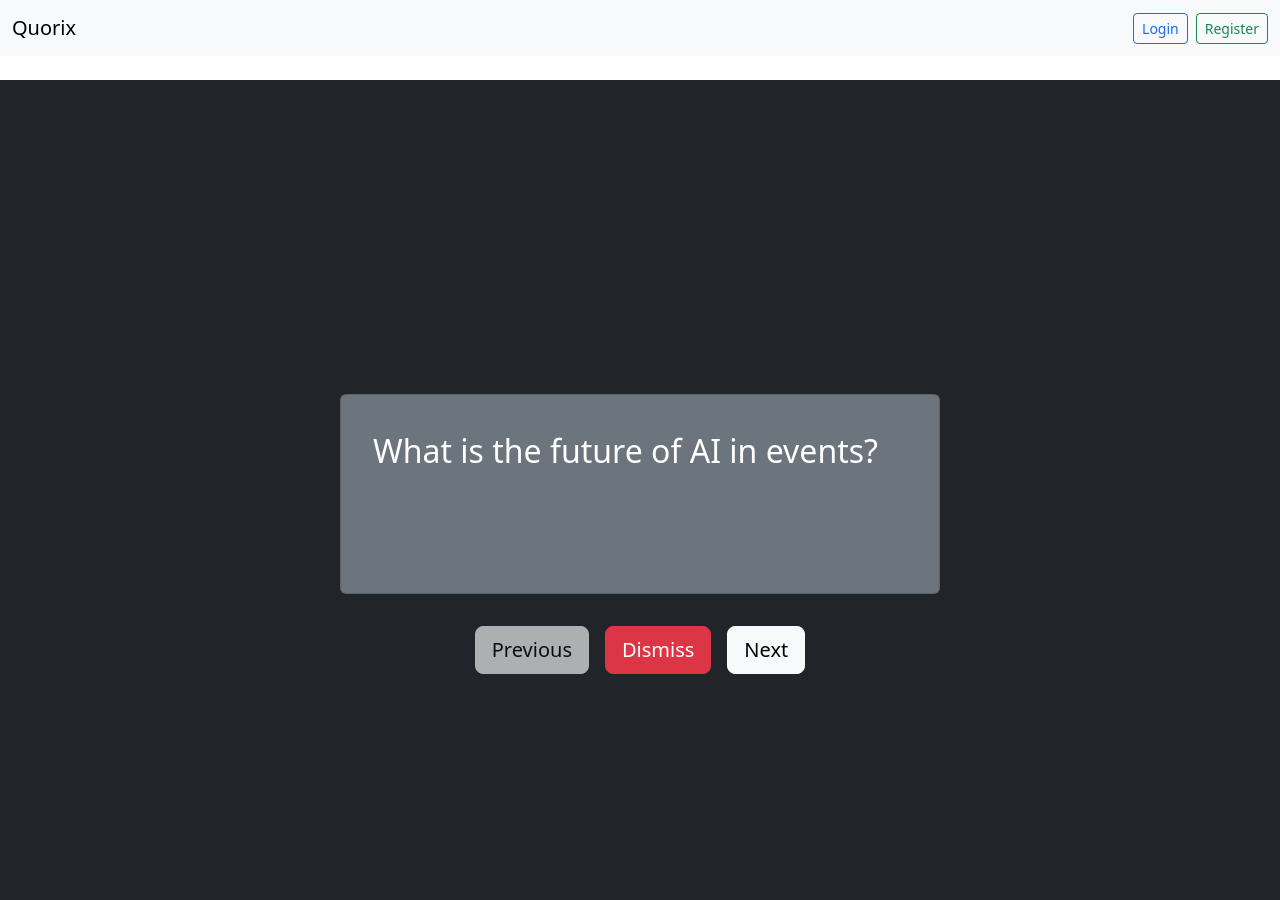
it: SpeakerView › disables Previous on first and Next on last question
Expected: the text "What is the future of AI in events?" is shown, [373,427,907,475]
Expected: the button "Previous" is disabled, [475,626,589,674]
Click the button "Next" at (766, 650), box [727,626,805,674]
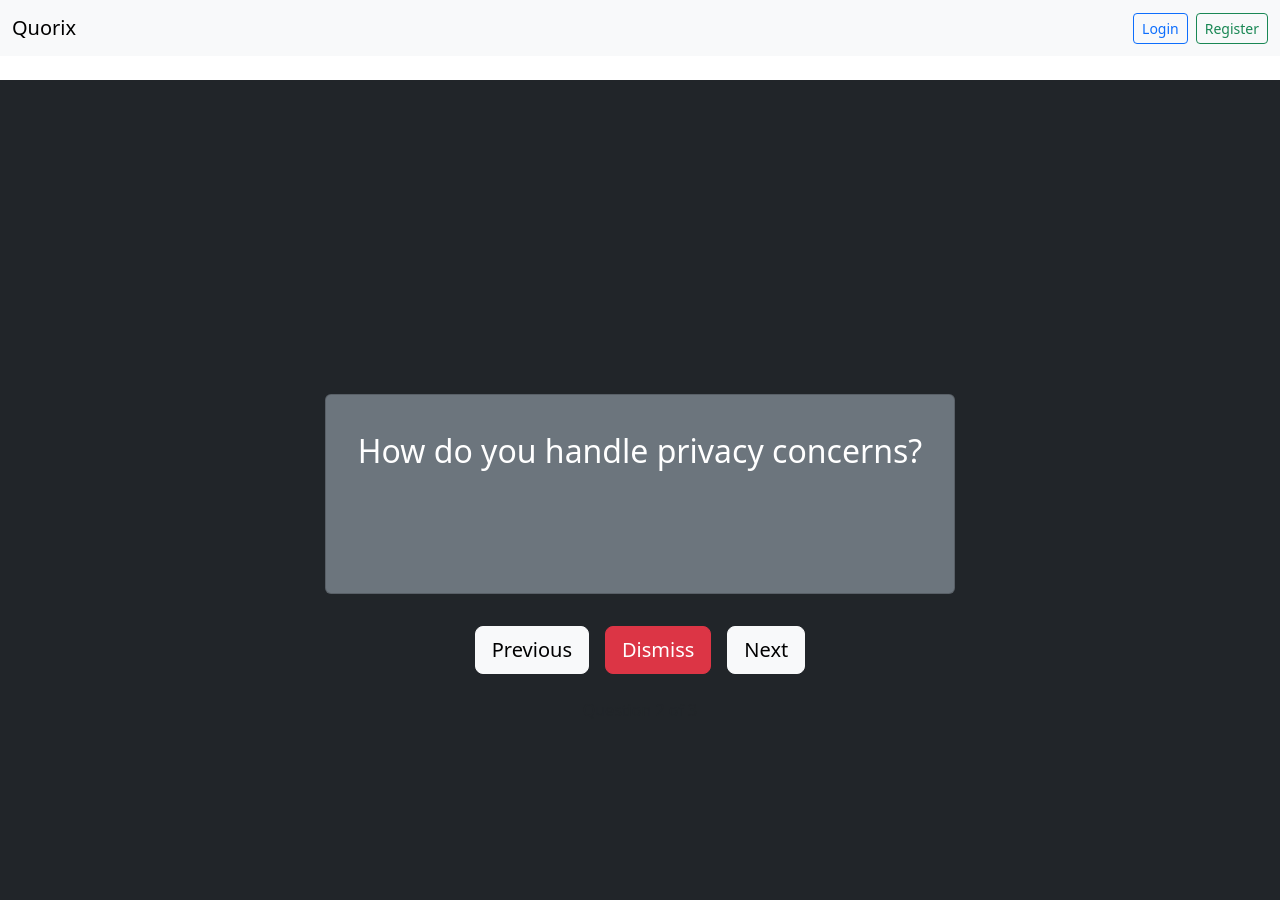
Click the button "Next" at (766, 650), box [727,626,805,674]
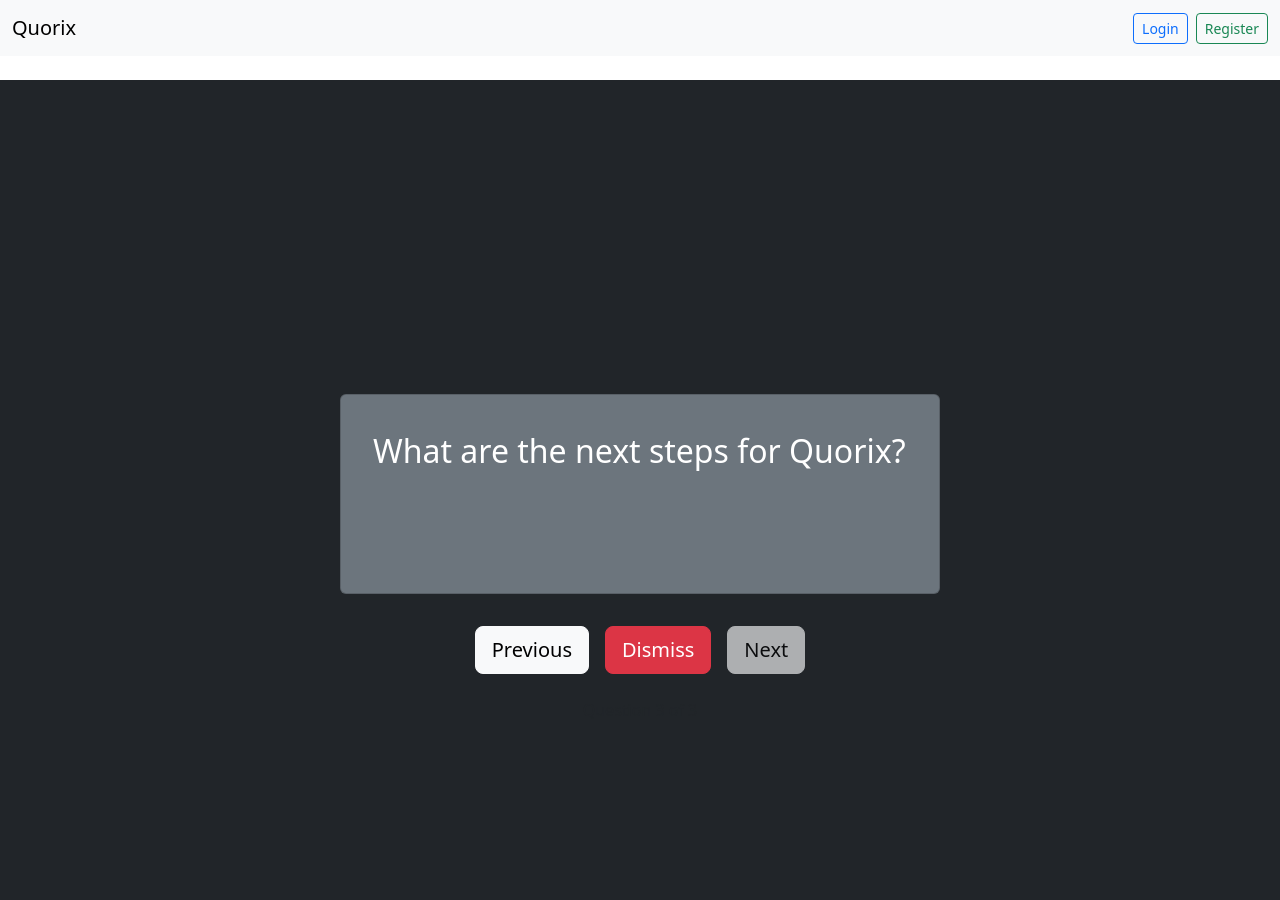
Now the button "Next" is disabled, box [727,626,805,674]
